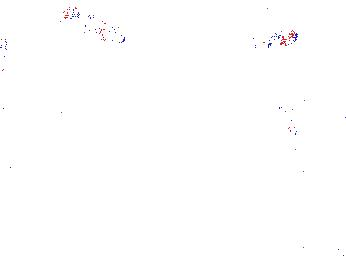X-ray fish: (117, 51, 150, 74)
red belly glassfish: (263, 30, 300, 46), (249, 38, 273, 52)
redtail glassfish: (66, 6, 128, 45), (277, 100, 298, 138)
